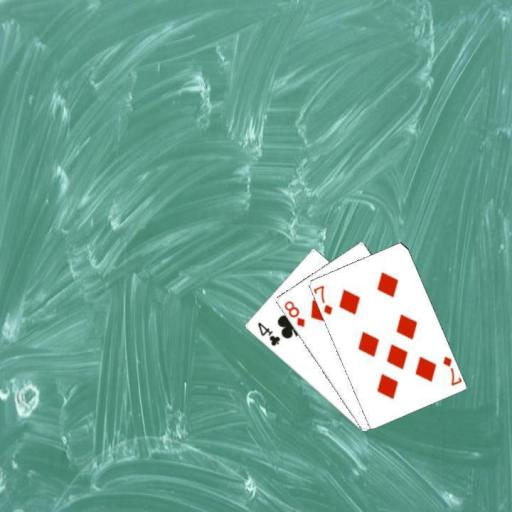card-corner: (281, 297, 306, 329), (254, 319, 281, 348), (312, 282, 334, 316), (440, 353, 462, 387)
